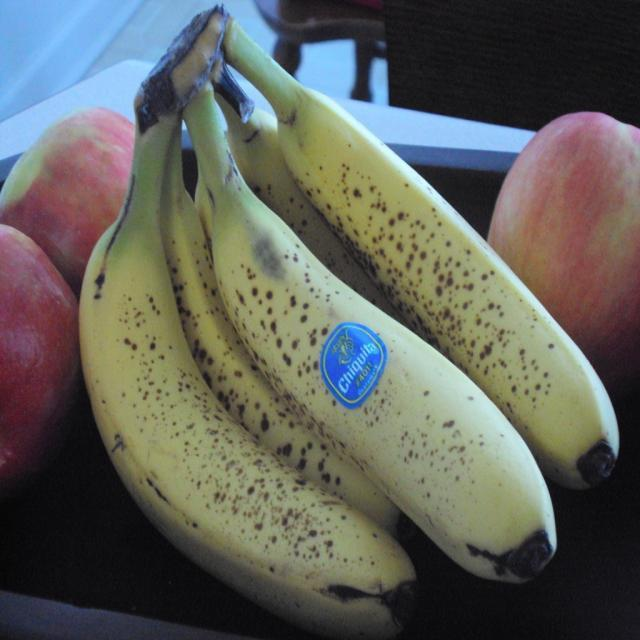Apple: (487, 108, 640, 376), (2, 103, 140, 293), (0, 223, 78, 491)
Banana: (74, 3, 622, 640)
